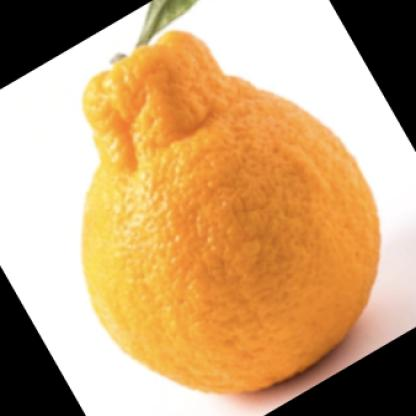fresh: (76, 31, 382, 388)
